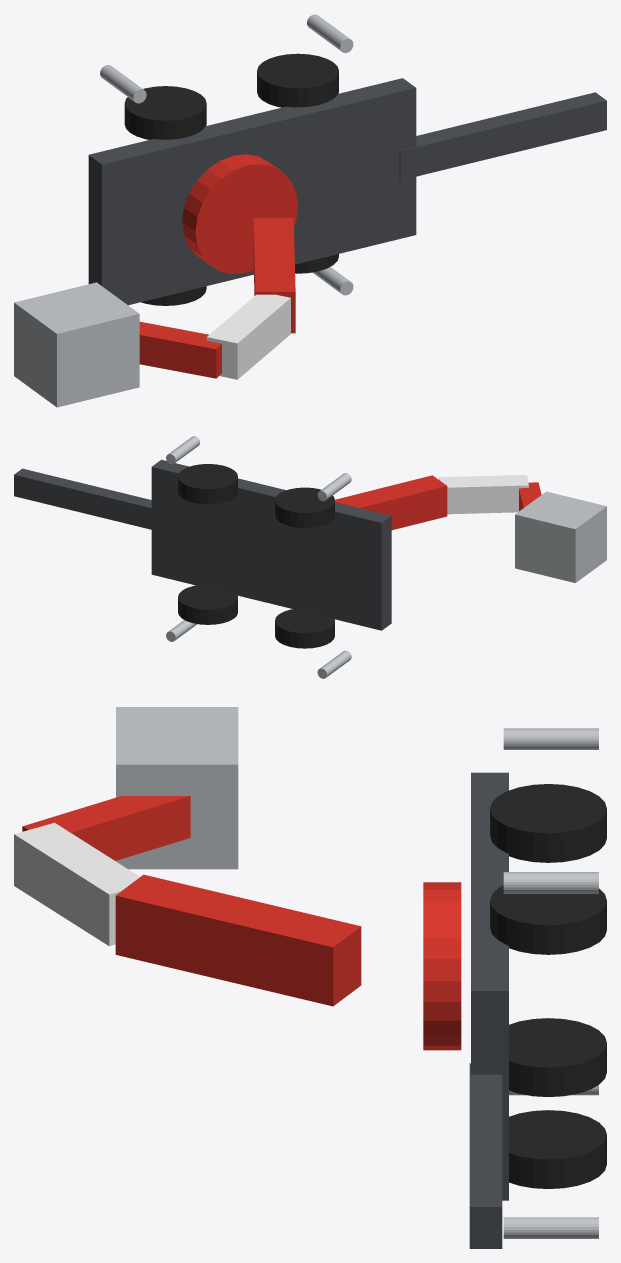
File: ENMAX_EMBL10A_HD.glb
3 views of the same model, one above another, from view 1: azimuth 30°, elevation 25°; view 2: azimuth 150°, elevation 25°; view 3: azimuth 270°, elevation 25° (orthographic). The views are drawn at different scales.
Visible parts, largest first — view 1: frame, basket, slew, drawbar, boom1, wheel0.80.95, wheel-0.80.95, boom2, boom0, leg2, leg0, wheel-0.8-0.95 (+1 smaller); view 2: frame, basket, drawbar, boom0, boom1, wheel0.80.95, wheel-0.80.95, wheel-0.8-0.95, wheel0.8-0.95, leg2, leg3, leg0 (+1 smaller); view 3: boom0, basket, frame, boom1, wheel-0.80.95, wheel0.8-0.95, wheel-0.8-0.95, wheel0.80.95, slew, boom2, drawbar, leg0 (+2 smaller).
Boxes of the visible parts, x1,y1,x2,y2 form: frame: (88, 78, 416, 305); basket: (14, 282, 139, 407); slew: (182, 154, 297, 274); drawbar: (399, 92, 606, 180); boom1: (206, 294, 290, 379); wheel0.80.95: (257, 53, 338, 107); wheel-0.80.95: (124, 86, 206, 139); boom2: (139, 321, 221, 378); boom0: (253, 217, 295, 333); leg2: (100, 65, 146, 103); leg0: (307, 14, 353, 52); wheel-0.8-0.95: (141, 286, 206, 305); frame: (151, 459, 391, 630); basket: (515, 491, 606, 582); drawbar: (14, 468, 151, 529); boom0: (335, 475, 447, 530); boom1: (439, 475, 528, 514); wheel0.80.95: (178, 464, 237, 504); wheel-0.80.95: (275, 487, 334, 527); wheel-0.8-0.95: (275, 608, 334, 648); wheel0.8-0.95: (178, 585, 237, 624); leg2: (317, 473, 351, 501); leg3: (317, 650, 351, 678); leg0: (166, 436, 200, 464); boom0: (115, 874, 361, 1006); basket: (116, 707, 238, 869); frame: (471, 772, 508, 1200); boom1: (14, 822, 139, 946); wheel-0.80.95: (490, 784, 606, 862); wheel0.8-0.95: (509, 1110, 606, 1188); wheel-0.8-0.95: (509, 1018, 606, 1096); wheel0.80.95: (490, 885, 606, 954); slew: (423, 882, 461, 1050); boom2: (22, 796, 190, 860); drawbar: (469, 1063, 502, 1248); leg0: (503, 872, 598, 893).
Bounding box in the file's own units: 8.15 × 2.96 × 4.36.
